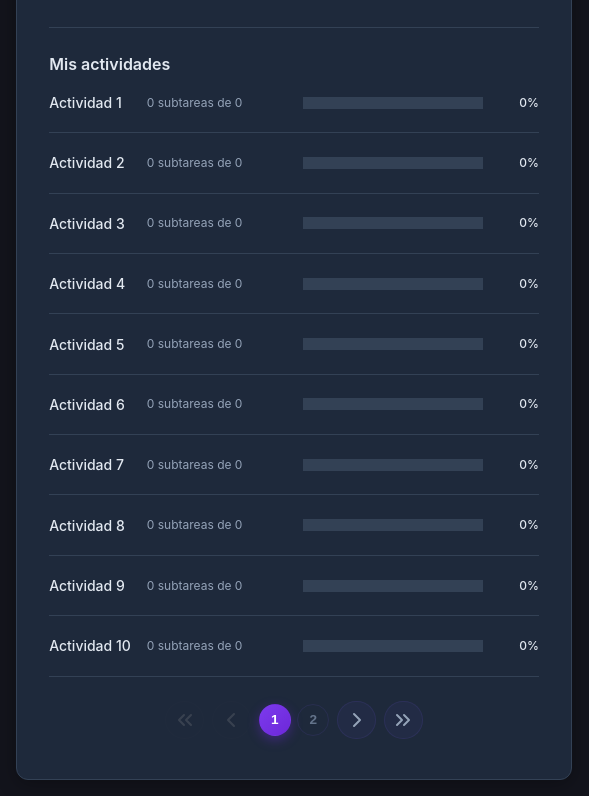
Test case: ProgressView › paginates when there are more than ten activities
(page scrolled)
Expected: the text "Actividad 1" is shown, top-left (49, 92), bottom-right (131, 113)
Expected: the text "Actividad 11" is not shown
Click the button "2": (313, 720) top-left (297, 704), bottom-right (329, 736)
(page scrolled)
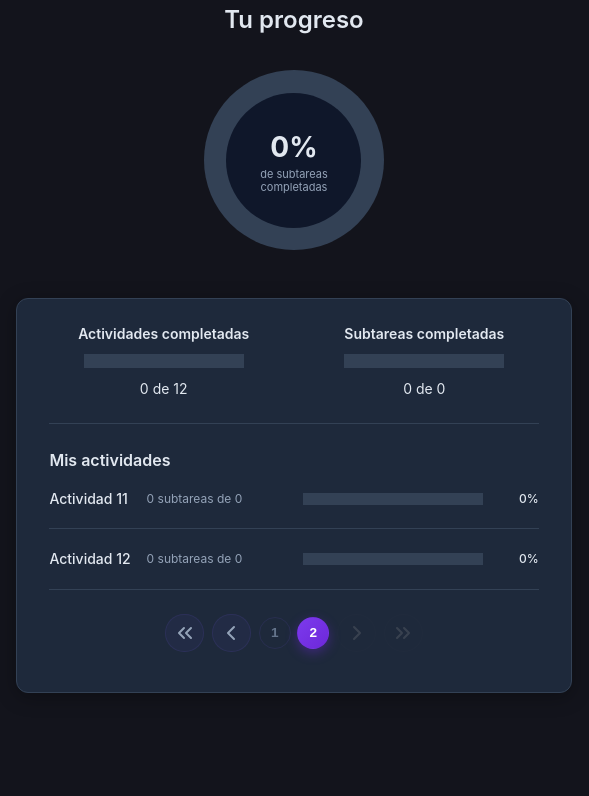
Expected: the text "Actividad 11" is shown, top-left (49, 488), bottom-right (131, 509)
